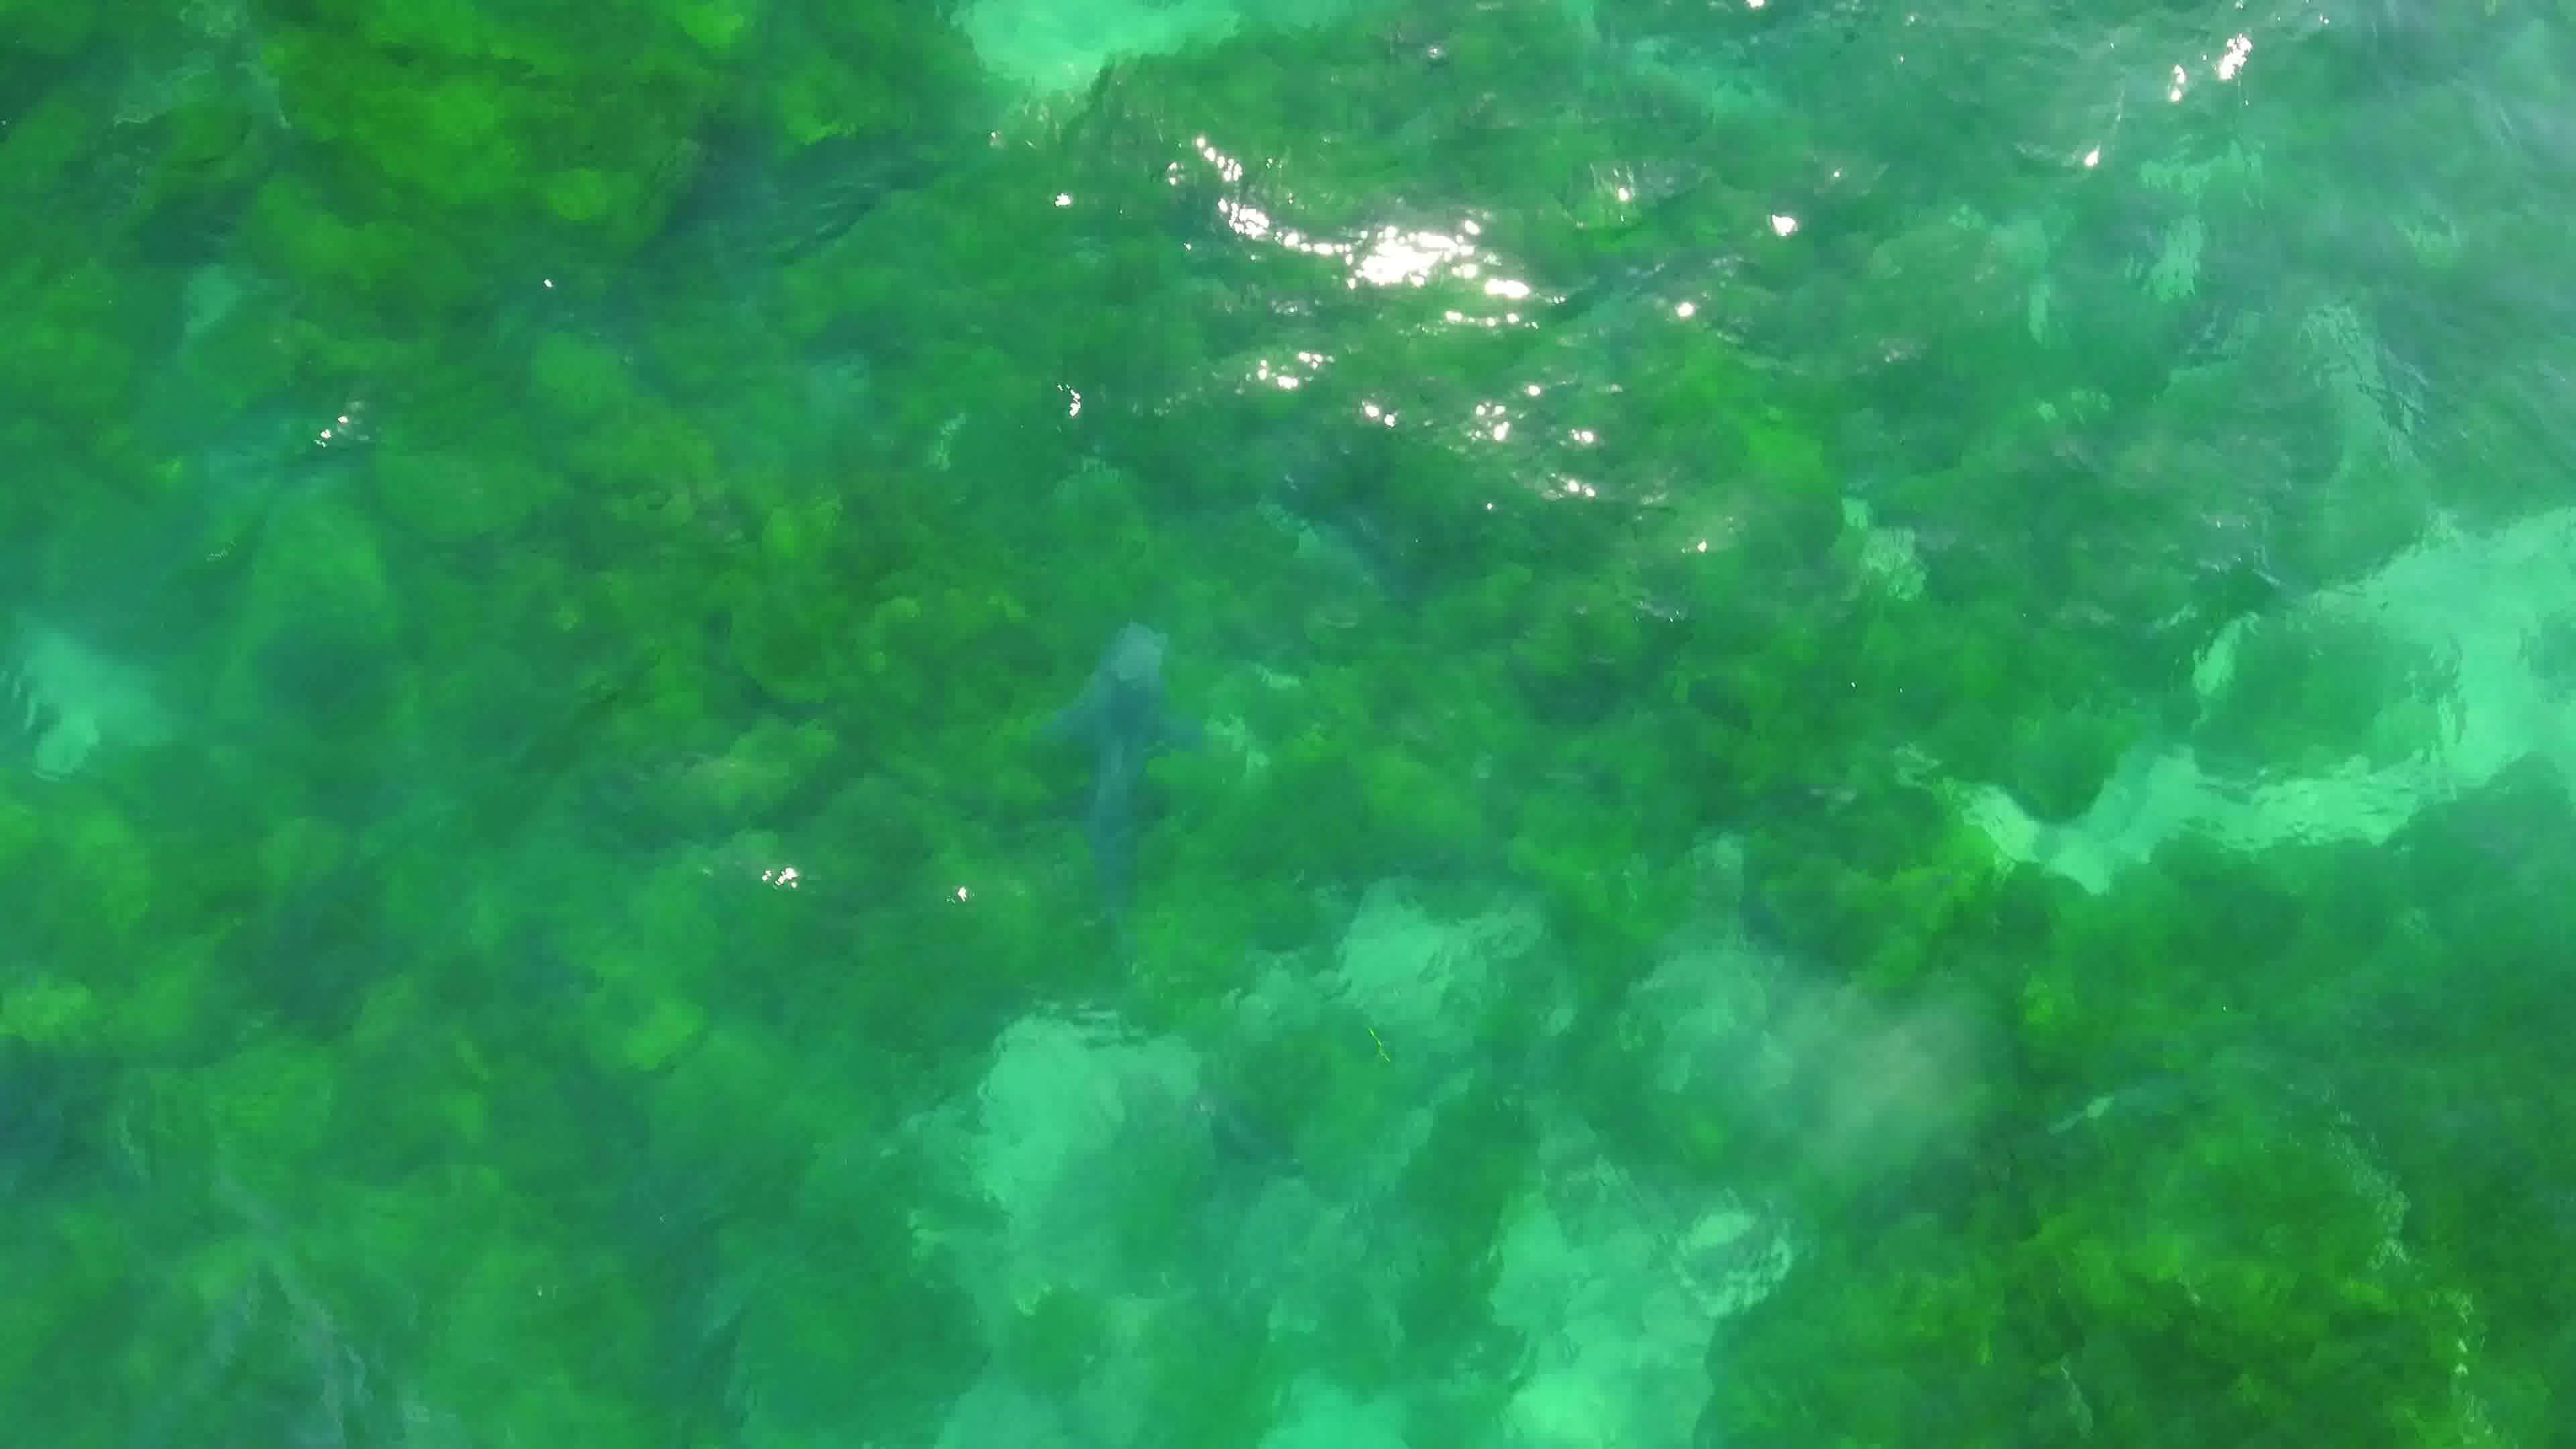shark: (1039, 617, 1208, 916)
